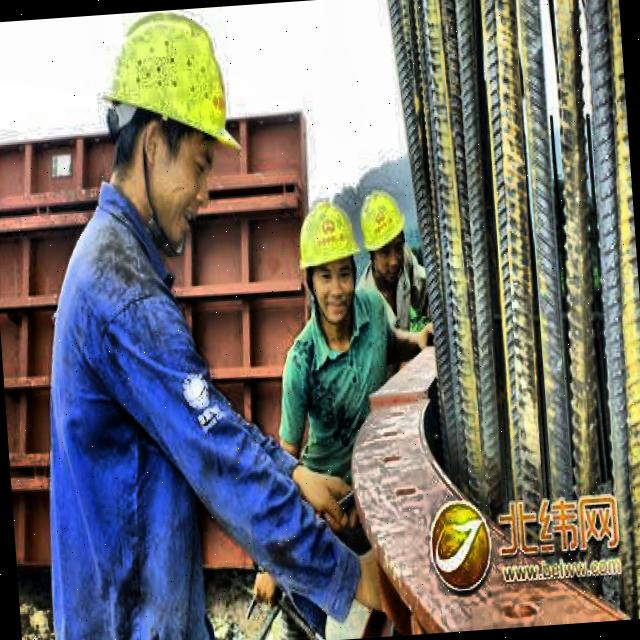helmet: (80, 4, 258, 256), (293, 182, 367, 328), (416, 490, 500, 612), (352, 180, 414, 290)
